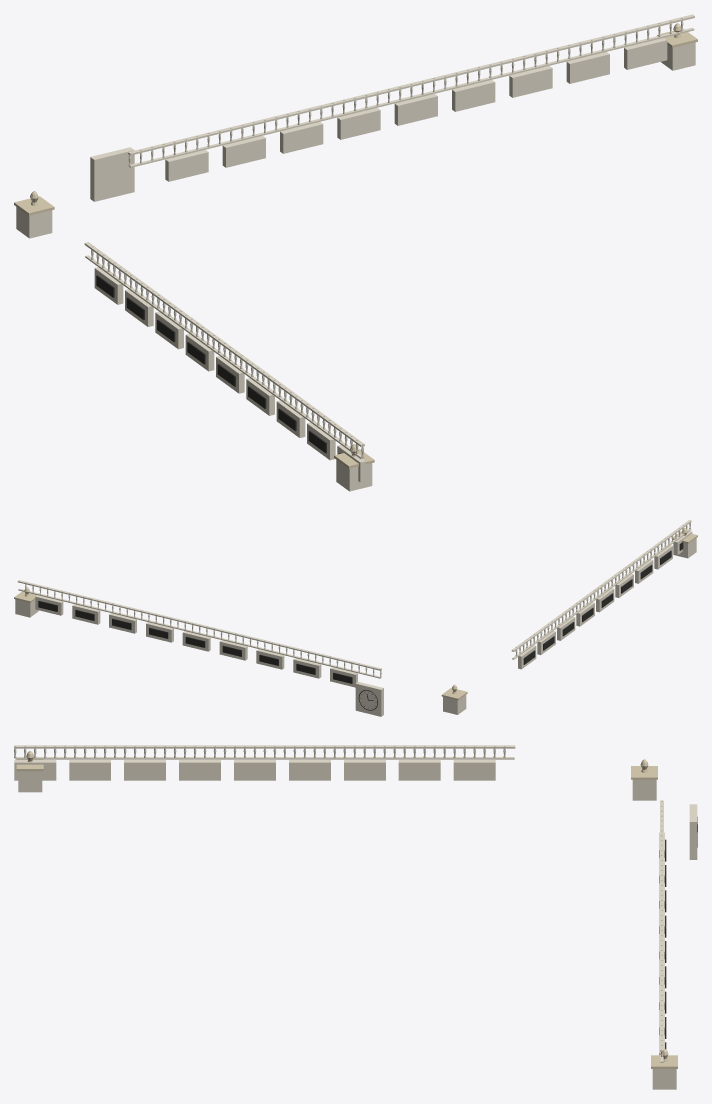
Rendered from KOL_T1_GPO__07_Civic_Details.fbx.
The picture shows the model from 3 angles, top to bottom: view 1: azimuth 30°, elevation 25°; view 2: azimuth 150°, elevation 25°; view 3: azimuth 270°, elevation 25°; orthographic projection. The views are drawn at different scales.
Visible parts, largest first — view 1: KOL_T1_GPO__07_Civic_Details__KOL_T1_HeritageWhite, KOL_T1_GPO__07_Civic_Details__KOL_T1_HeritageWhite.001, KOL_T1_GPO__07_Civic_Details__KOL_T1_HeritageDark, KOL_T1_GPO__07_Civic_Details__KOL_T1_HeritageCream; view 2: KOL_T1_GPO__07_Civic_Details__KOL_T1_HeritageWhite, KOL_T1_GPO__07_Civic_Details__KOL_T1_HeritageDark, KOL_T1_GPO__07_Civic_Details__KOL_T1_HeritageWhite.001, KOL_T1_GPO__07_Civic_Details__KOL_T1_HeritageCream; view 3: KOL_T1_GPO__07_Civic_Details__KOL_T1_HeritageWhite, KOL_T1_GPO__07_Civic_Details__KOL_T1_HeritageWhite.001, KOL_T1_GPO__07_Civic_Details__KOL_T1_HeritageCream.
Part boxes in pixels (x1,y1,x2,y2): KOL_T1_GPO__07_Civic_Details__KOL_T1_HeritageWhite: (84,14,694,482); KOL_T1_GPO__07_Civic_Details__KOL_T1_HeritageWhite.001: (16,42,695,491); KOL_T1_GPO__07_Civic_Details__KOL_T1_HeritageDark: (96,275,340,453); KOL_T1_GPO__07_Civic_Details__KOL_T1_HeritageCream: (14,23,697,468); KOL_T1_GPO__07_Civic_Details__KOL_T1_HeritageWhite: (17,531,692,716); KOL_T1_GPO__07_Civic_Details__KOL_T1_HeritageDark: (38,542,683,710); KOL_T1_GPO__07_Civic_Details__KOL_T1_HeritageWhite.001: (15,520,696,714); KOL_T1_GPO__07_Civic_Details__KOL_T1_HeritageCream: (14,528,697,700); KOL_T1_GPO__07_Civic_Details__KOL_T1_HeritageWhite: (14,745,697,1062); KOL_T1_GPO__07_Civic_Details__KOL_T1_HeritageWhite.001: (14,745,676,1089); KOL_T1_GPO__07_Civic_Details__KOL_T1_HeritageCream: (16,751,677,1068).
Size of the model in its own units: 147 by 11.15 by 137.
